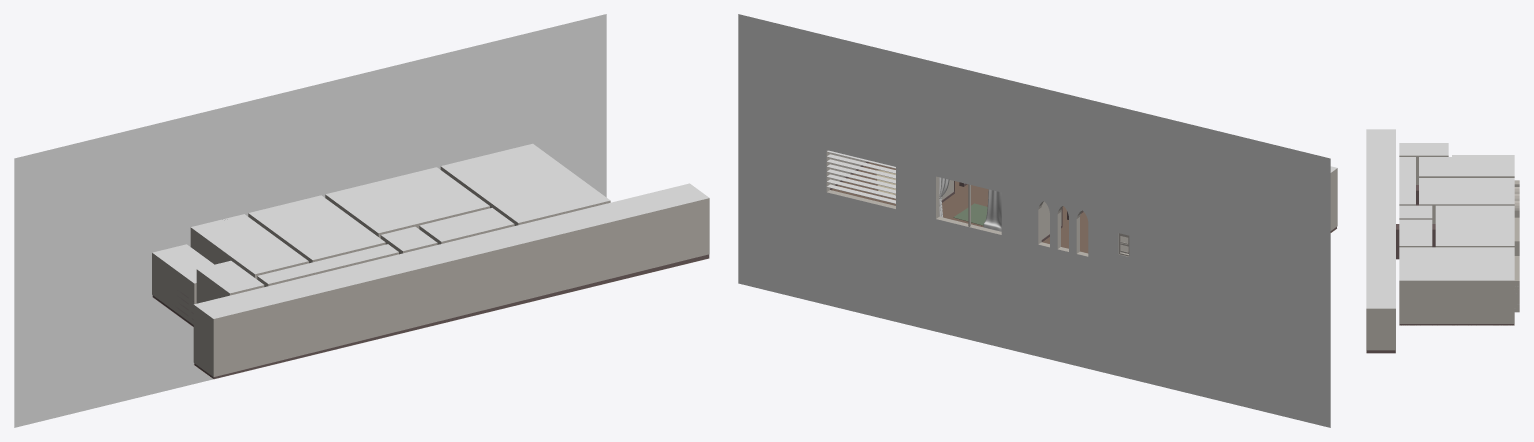
File: Apartment Walls.fbx
3 views of the same model, side by side, from view 1: azimuth 30°, elevation 25°; view 2: azimuth 150°, elevation 25°; view 3: azimuth 270°, elevation 25° (orthographic). The views are drawn at different scales.
Visible parts, largest first — view 1: Walls; view 2: Walls, Blinds, Curtains; view 3: Walls.
Part boxes in pixels (x1,y1,x2,y2): Walls: (14,14,709,427); Walls: (738,14,1337,427); Blinds: (827,150,895,203); Curtains: (939,177,1001,231); Walls: (1366,129,1519,353).
Bounding box in the file's own units: 3080 × 1339 × 930.
